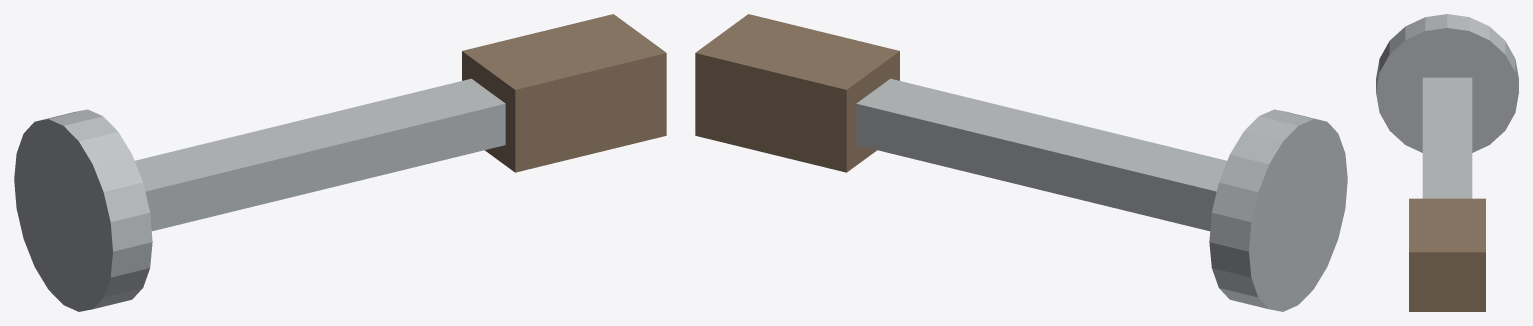
The model's file is wrench_lod1.glb.
The picture shows the model from 3 angles, left to right: view 1: azimuth 30°, elevation 25°; view 2: azimuth 150°, elevation 25°; view 3: azimuth 270°, elevation 25°; orthographic projection. The views are drawn at different scales.
Visible parts, largest first — view 1: shaft, grip, head; view 2: shaft, grip, head; view 3: head, grip, shaft.
Boxes of the visible parts, <box> form: shaft: <box>135,78,505,231</box>; grip: <box>462,14,666,172</box>; head: <box>14,109,152,311</box>; shaft: <box>856,78,1226,231</box>; grip: <box>695,14,899,172</box>; head: <box>1209,109,1347,311</box>; head: <box>1376,14,1518,152</box>; grip: <box>1409,198,1485,311</box>; shaft: <box>1422,77,1472,198</box>.
Size of the model in its own units: 1.75 by 0.52 by 0.52.
